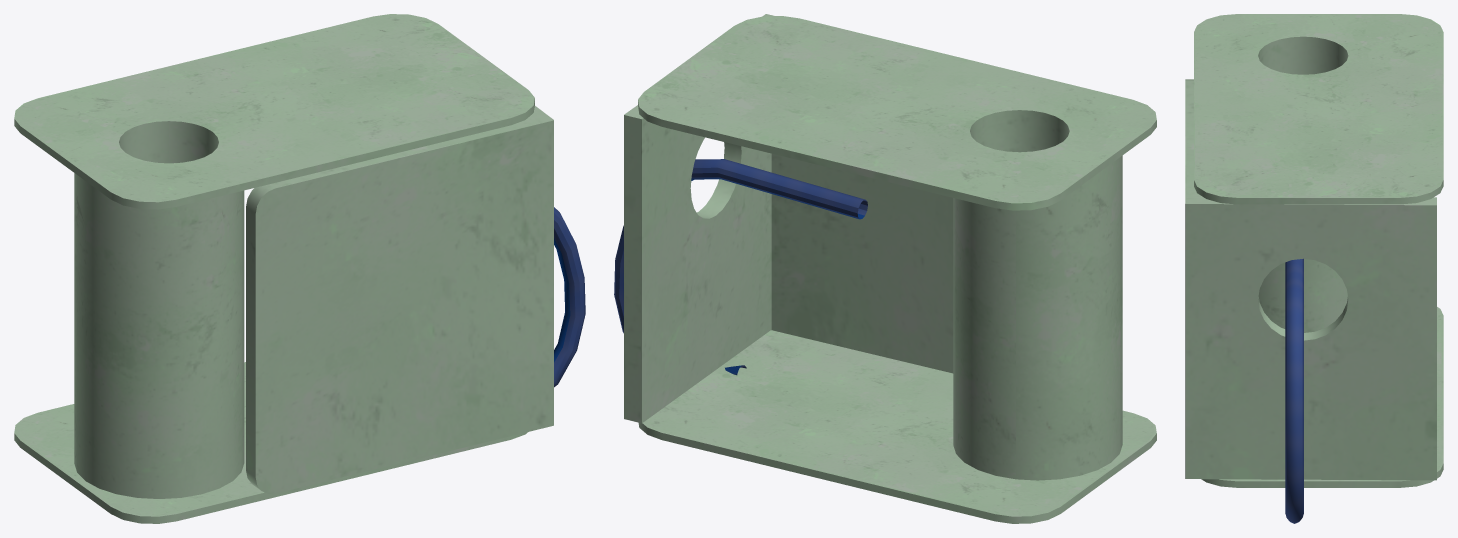
File: Marker_case.fbx
3 renders of one model, left to right at view 1: azimuth 30°, elevation 25°; view 2: azimuth 150°, elevation 25°; view 3: azimuth 270°, elevation 25°, orthographic. The views are drawn at different scales.
Visible parts, largest first — view 1: Marker_case; view 2: Marker_case; view 3: Marker_case.
Boxes of the visible parts, <box> form: Marker_case: <box>14,14,585,523</box>; Marker_case: <box>614,14,1156,523</box>; Marker_case: <box>1185,14,1443,523</box>.
Size of the model in its own units: 33.84 by 22.12 by 16.62.
